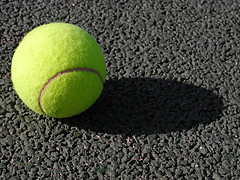tennis ball: (9, 21, 107, 119)
